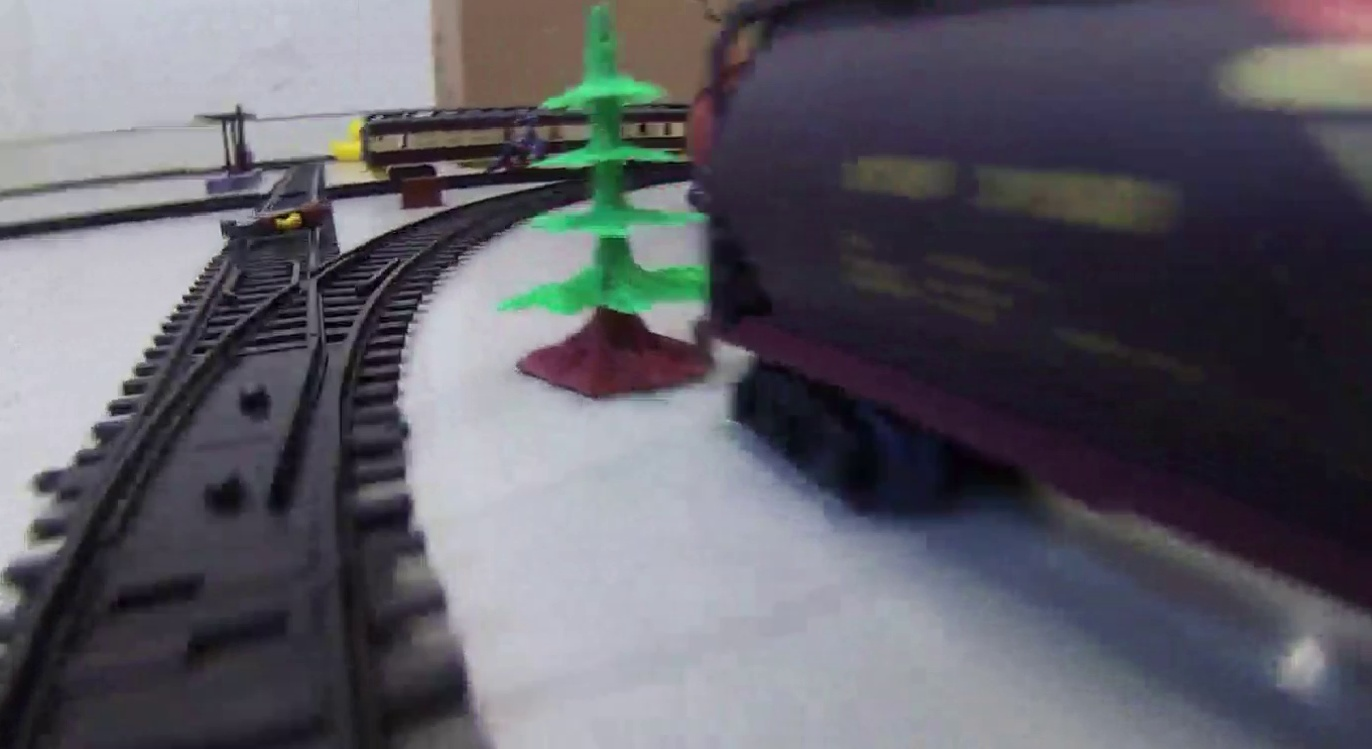tree: (499, 6, 712, 404)
